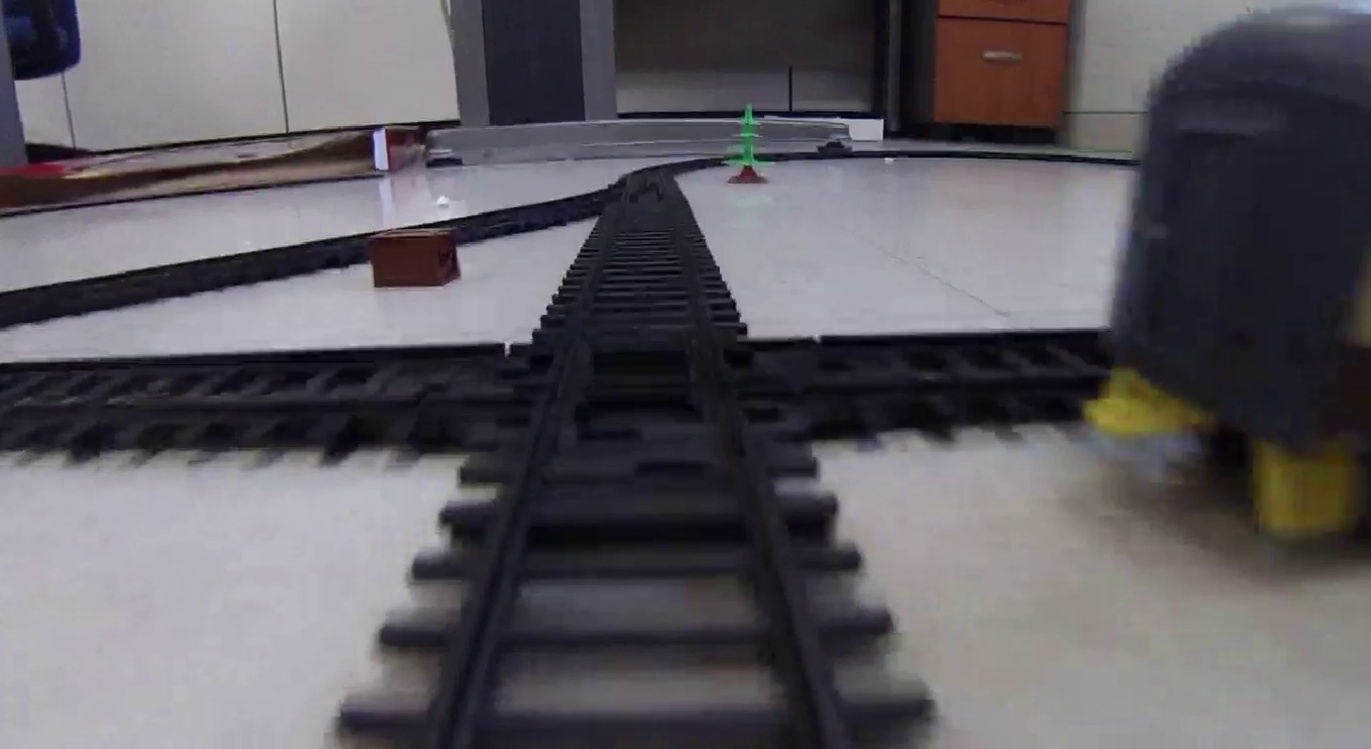box: (368, 228, 461, 288)
tree: (721, 104, 773, 185)
